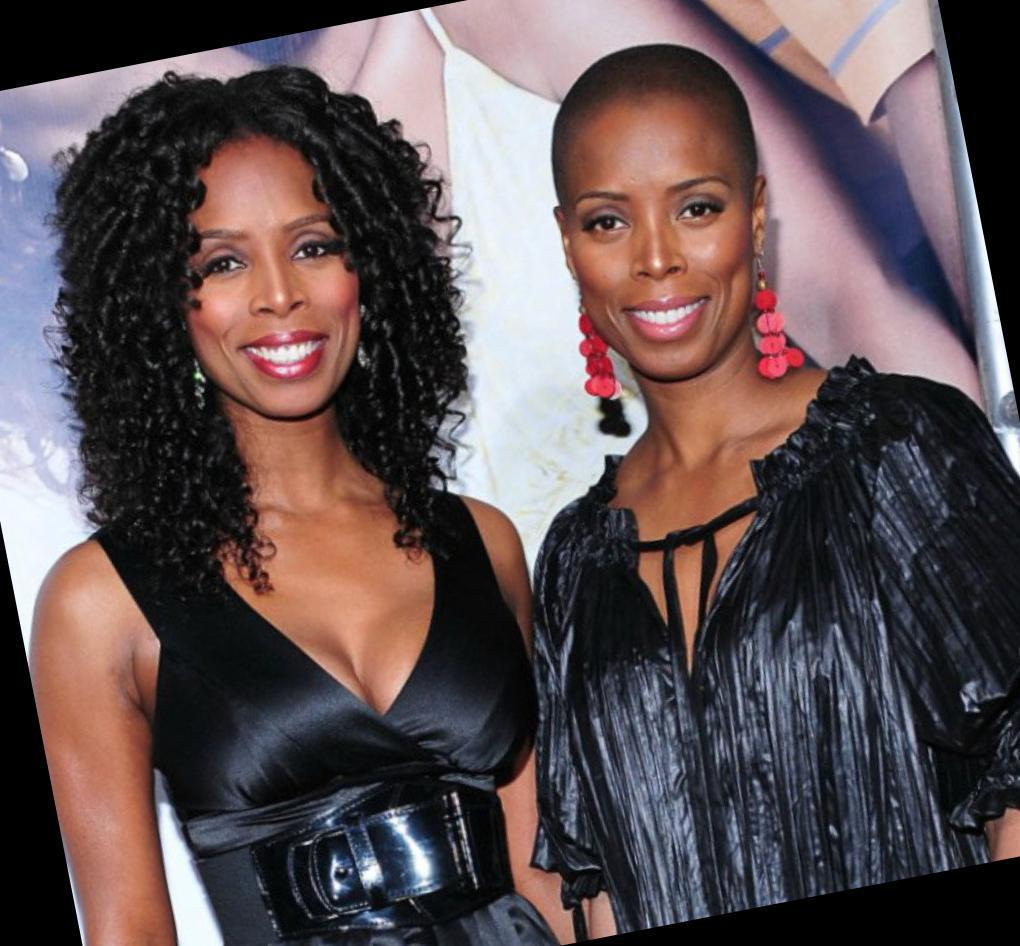Sober: (569, 126, 751, 356), (191, 148, 346, 388)
